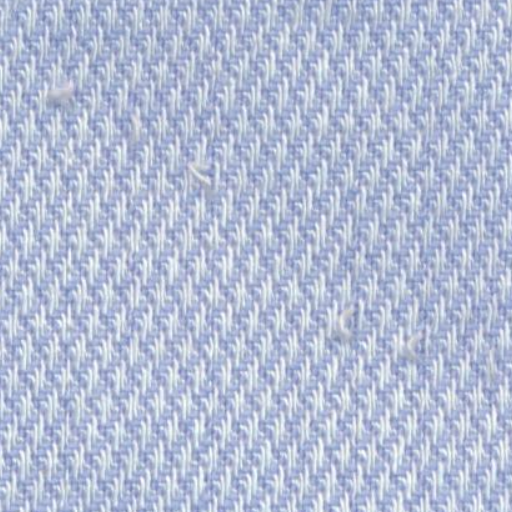DuanSha: (321, 286, 449, 374), (24, 64, 90, 116), (174, 142, 229, 198)
